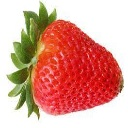strawberry: (11, 9, 127, 116)
